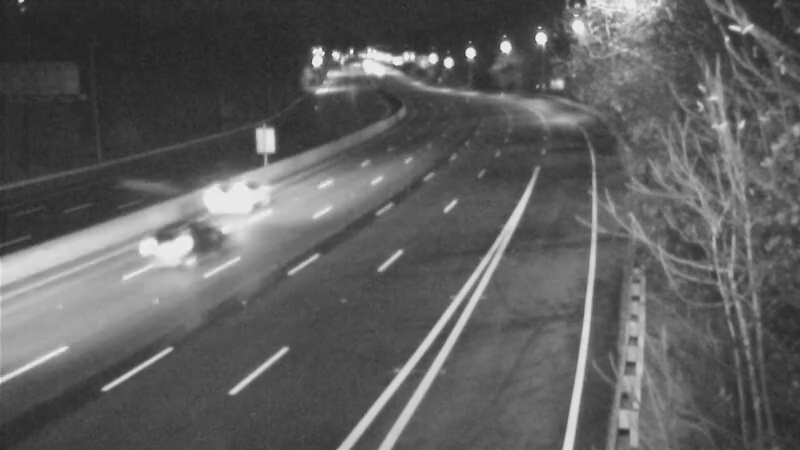vehicle: (184, 151, 264, 231), (122, 209, 202, 289)
